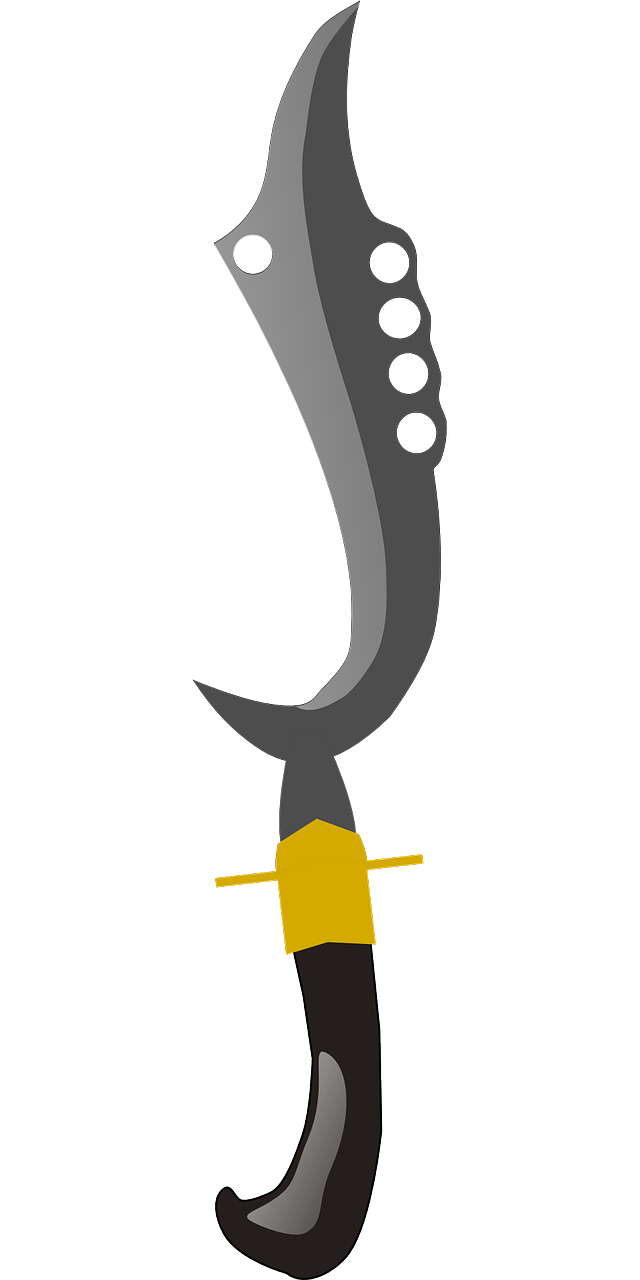knife: (166, 0, 449, 1280)
